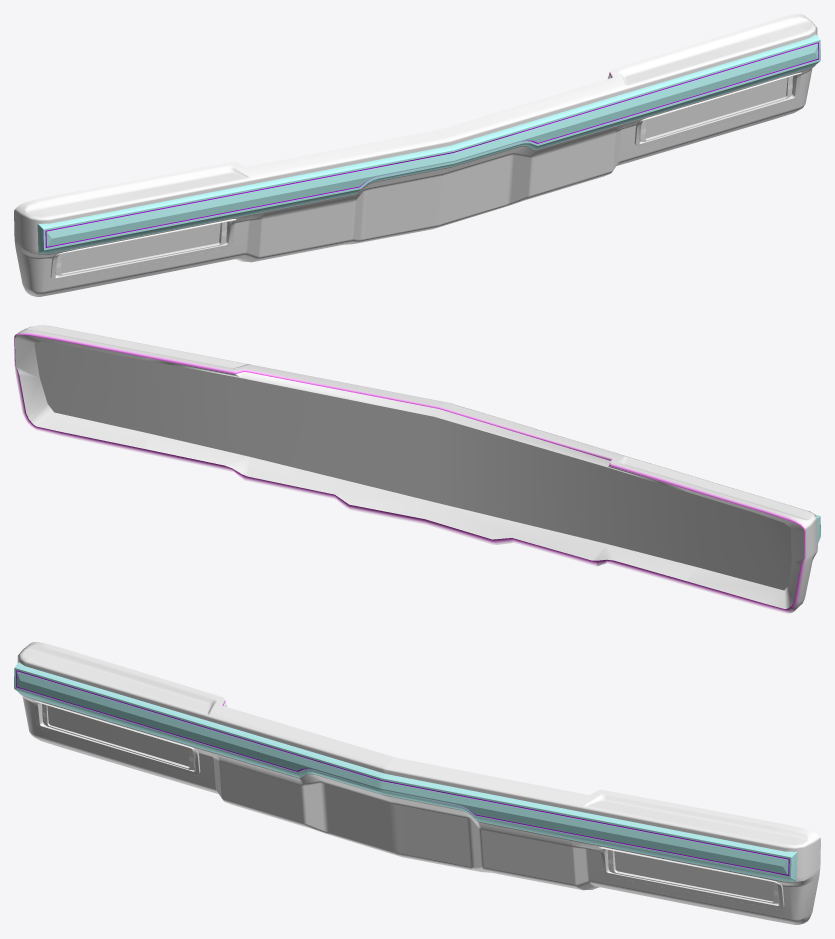
File: Car_Buick_GrandNational_1987_BumperF_SetA.fbx
The picture shows the model from 3 angles, top to bottom: view 1: azimuth 30°, elevation 25°; view 2: azimuth 150°, elevation 25°; view 3: azimuth 330°, elevation 25°; orthographic projection.
Visible parts, largest first — view 1: BumperF 6; view 2: BumperF 6; view 3: BumperF 6.
Boxes of the visible parts, <box> form: BumperF 6: <box>14,14,820,296</box>; BumperF 6: <box>14,325,820,613</box>; BumperF 6: <box>14,642,820,924</box>.
Bounding box in the file's own units: 1.72 × 0.23 × 0.1689.
